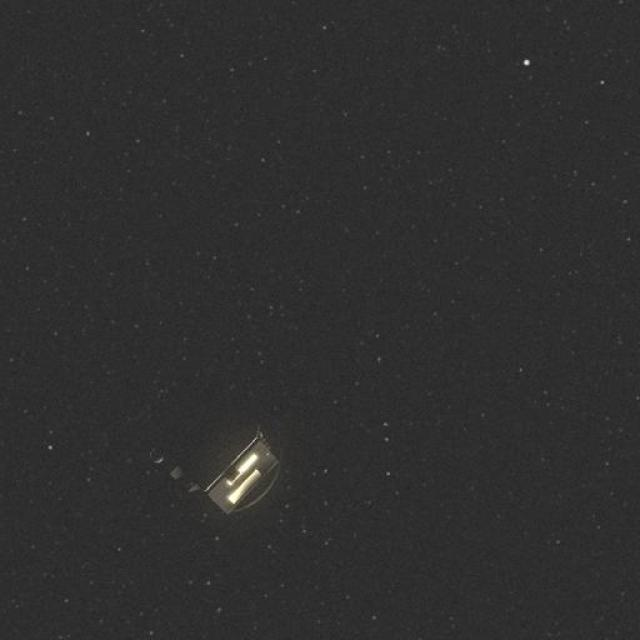proba_3_ocs: (120, 402, 310, 532)
